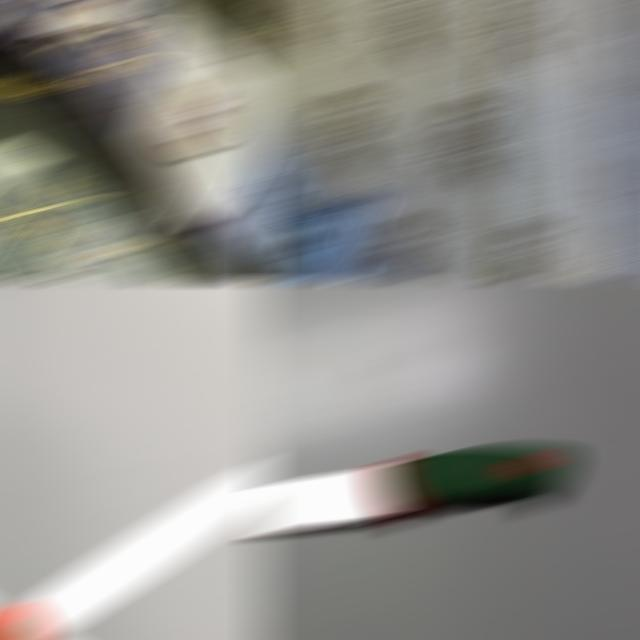Knife: (0, 459, 271, 638), (253, 448, 575, 530)
Knife_Handle: (0, 402, 271, 638)
